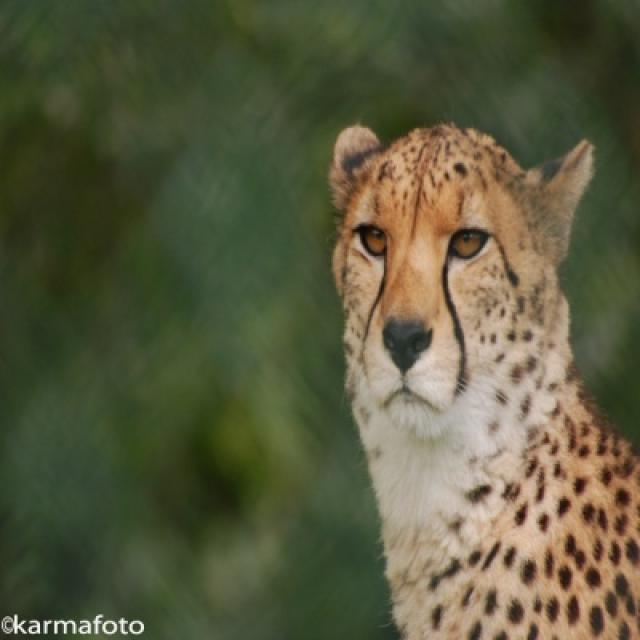Cheetah: (326, 123, 638, 638)
